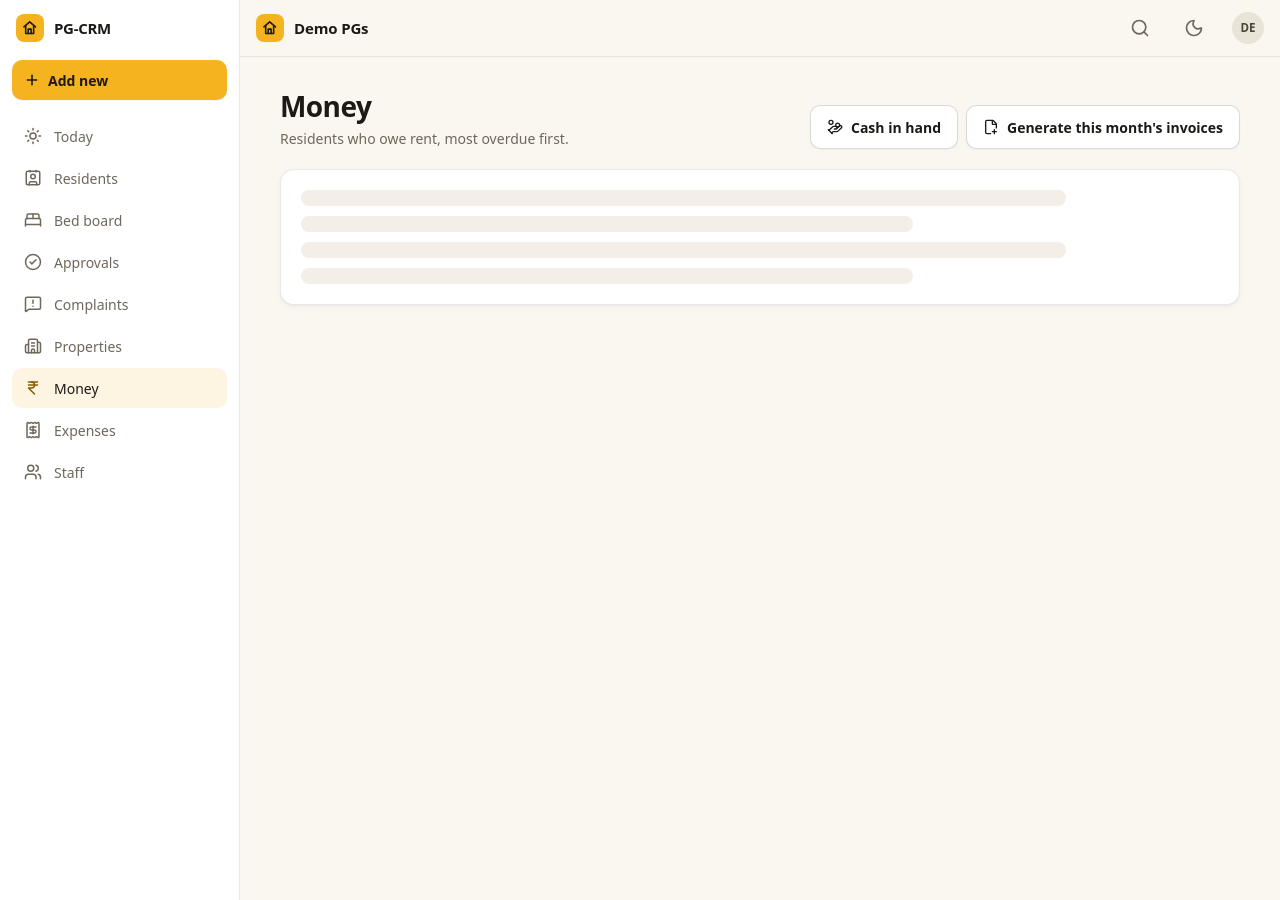
Owner generate invoices › [FE-30/AC3] Generate this month's invoices shows the created count
Click the button "Generate this month's invoices" at (1103, 127), box [966,105,1240,149]
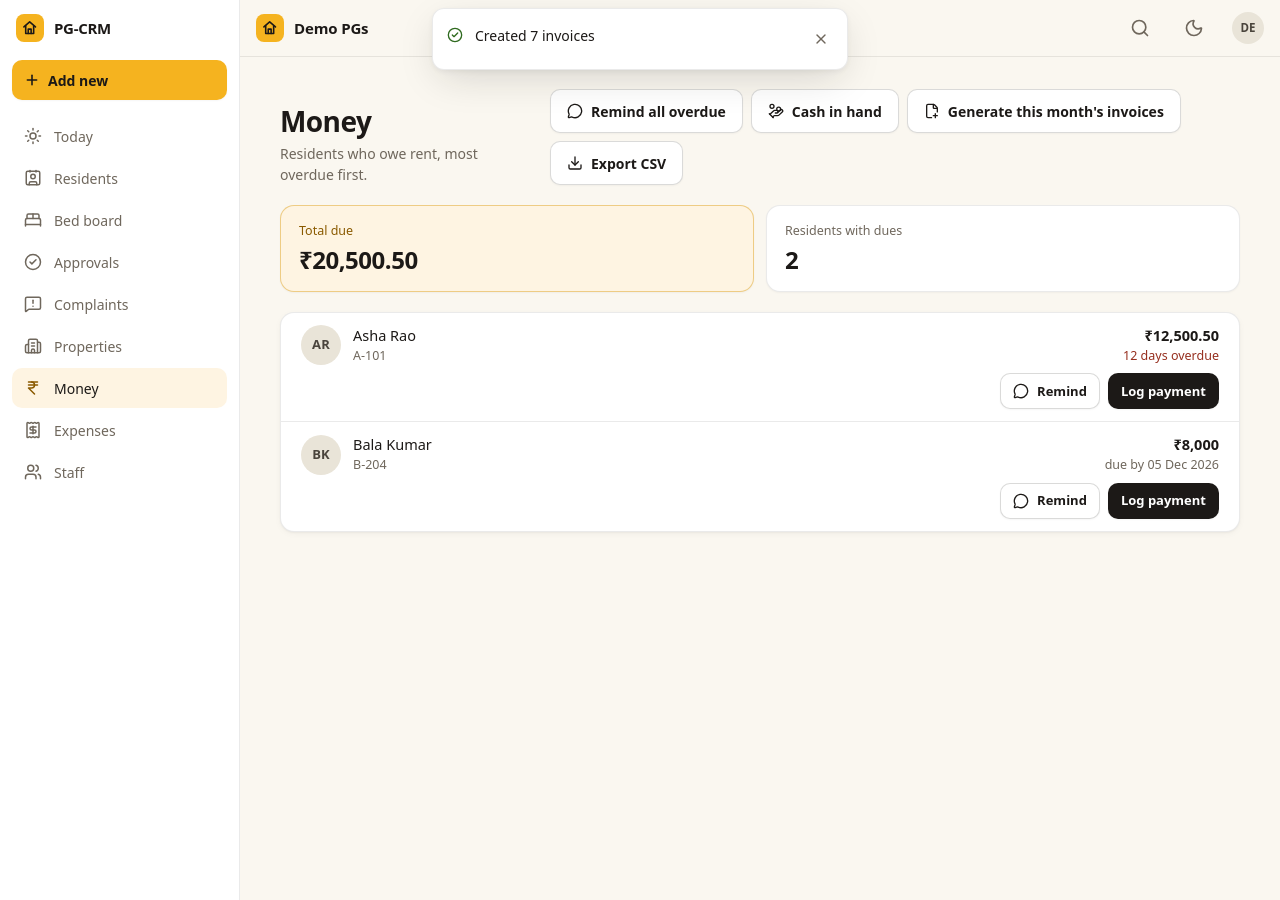
Expected: the text "Created 7 invoices" is shown, [475,26,595,45]
